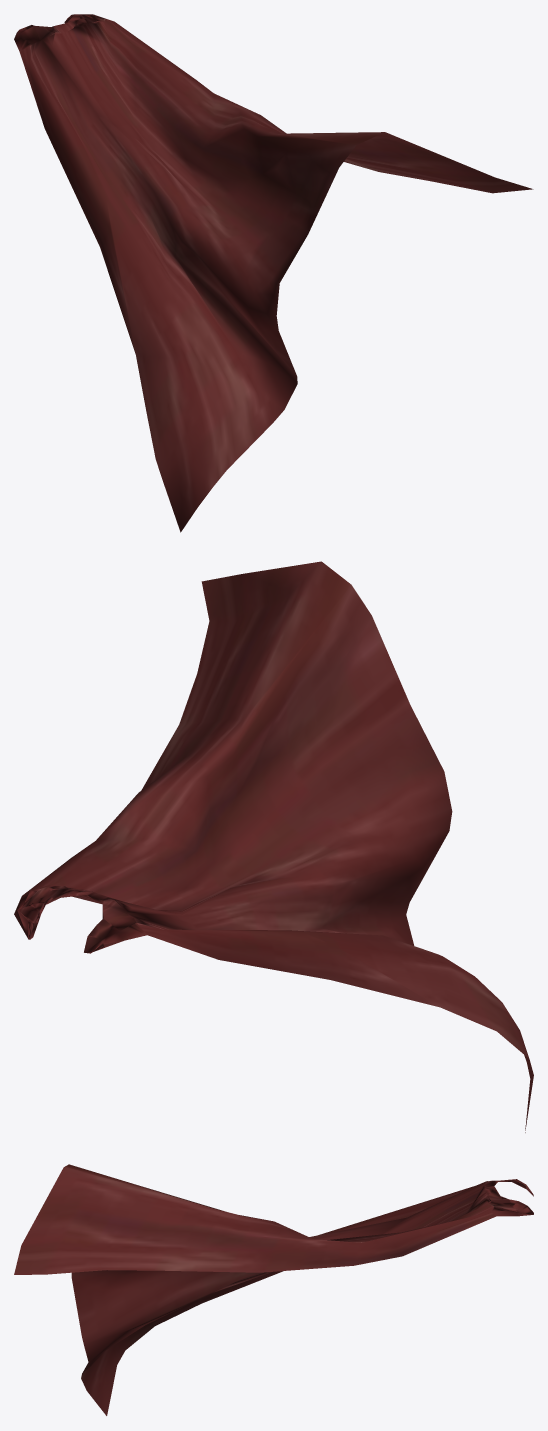
The model's file is hw_pop_cape.glb.
3 renders of one model, top to bottom at view 1: azimuth 30°, elevation 25°; view 2: azimuth 150°, elevation 25°; view 3: azimuth 270°, elevation 25°, orthographic. The views are drawn at different scales.
Parts seen in each view (by area): view 1: Plane; view 2: Plane; view 3: Plane.
Boxes of the visible parts, bbox=[...] form: Plane: bbox=[14, 14, 533, 532]; Plane: bbox=[14, 561, 533, 1132]; Plane: bbox=[14, 1164, 533, 1415].
Size of the model in its own units: 135 by 154 by 223.
Materials: 1 (1 with a texture image).
